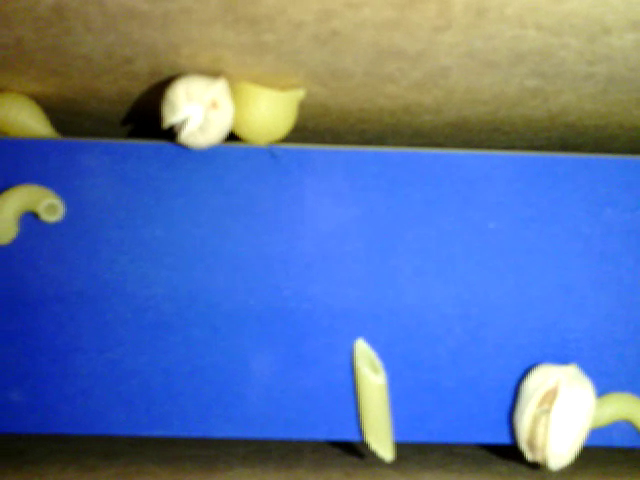elbow: (1, 178, 68, 249), (585, 392, 639, 435)
penne: (352, 336, 398, 464)
shell: (224, 80, 309, 145), (1, 85, 63, 137)
